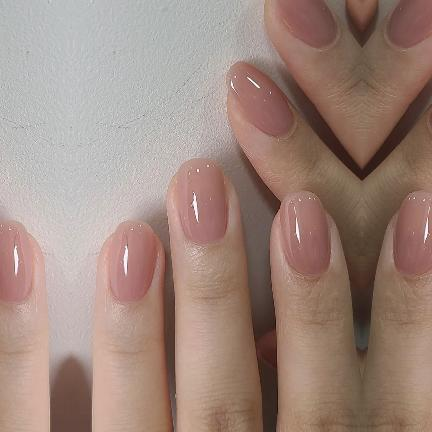Nail: (226, 61, 294, 139), (175, 157, 227, 245), (279, 191, 331, 277), (108, 221, 155, 303), (393, 191, 432, 277), (270, 0, 337, 49), (0, 221, 32, 303), (387, 0, 432, 49), (430, 112, 432, 130)
